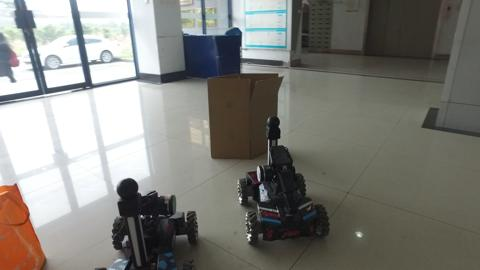box: (204, 69, 267, 159)
chariot: (232, 116, 332, 241), (106, 175, 201, 270)
